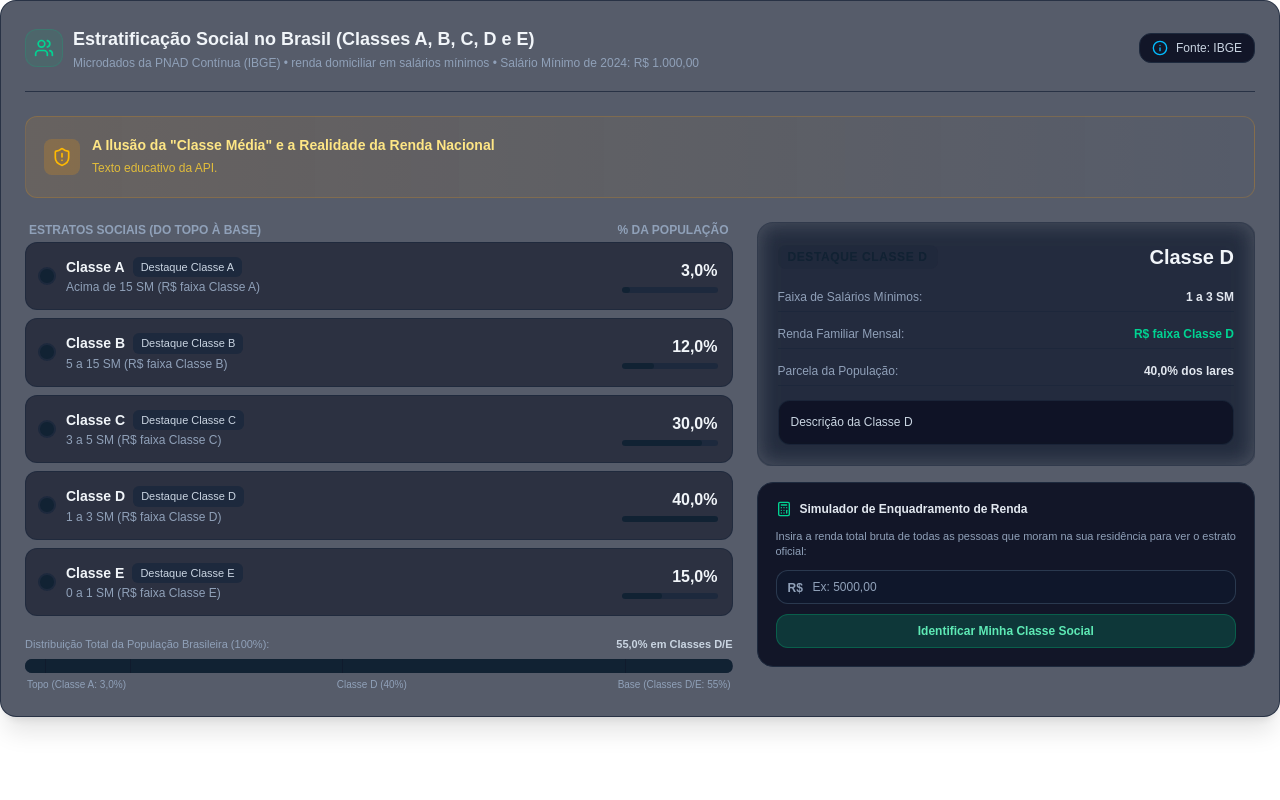
Test: SocialClassesExplainer › valor inválido mostra erro acessível e limpa o resultado
Expected: the text "Descrição da Classe D" is shown, [778,400,1234,445]
Type "abc" into the field named "Renda familiar mensal" at point(1006, 587), box [776,570,1236,604]
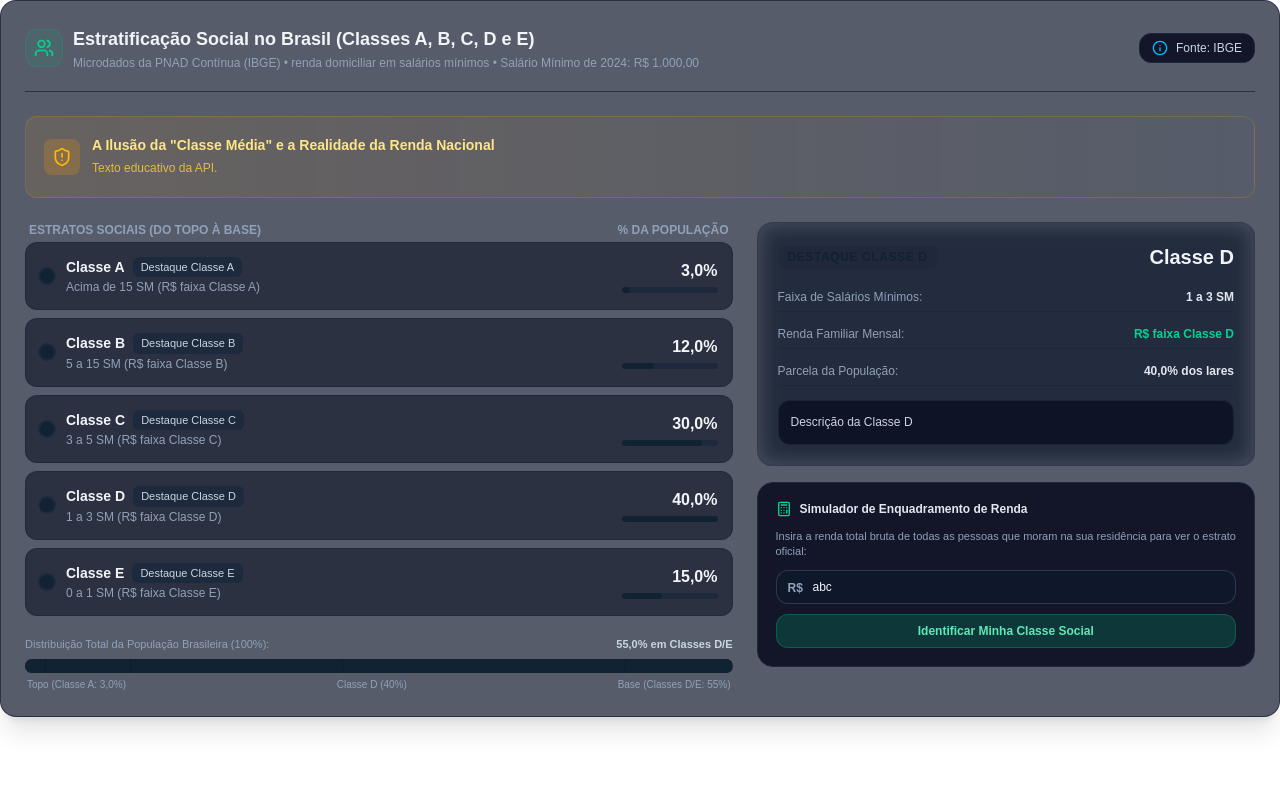
Click the button "Identificar Minha Classe Social" at point(1006, 631), box [776,614,1236,648]
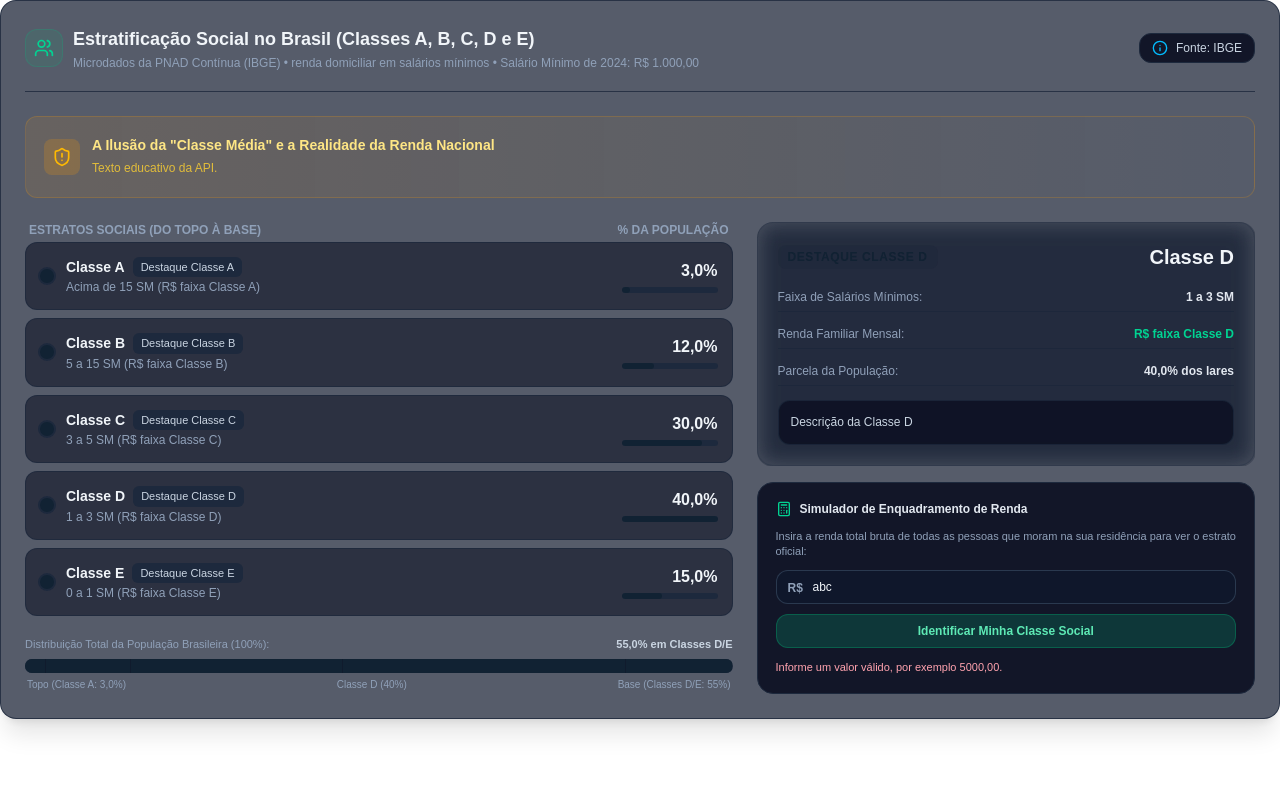
Result: the message shows "valor válido" at [776,661,1002,673]
